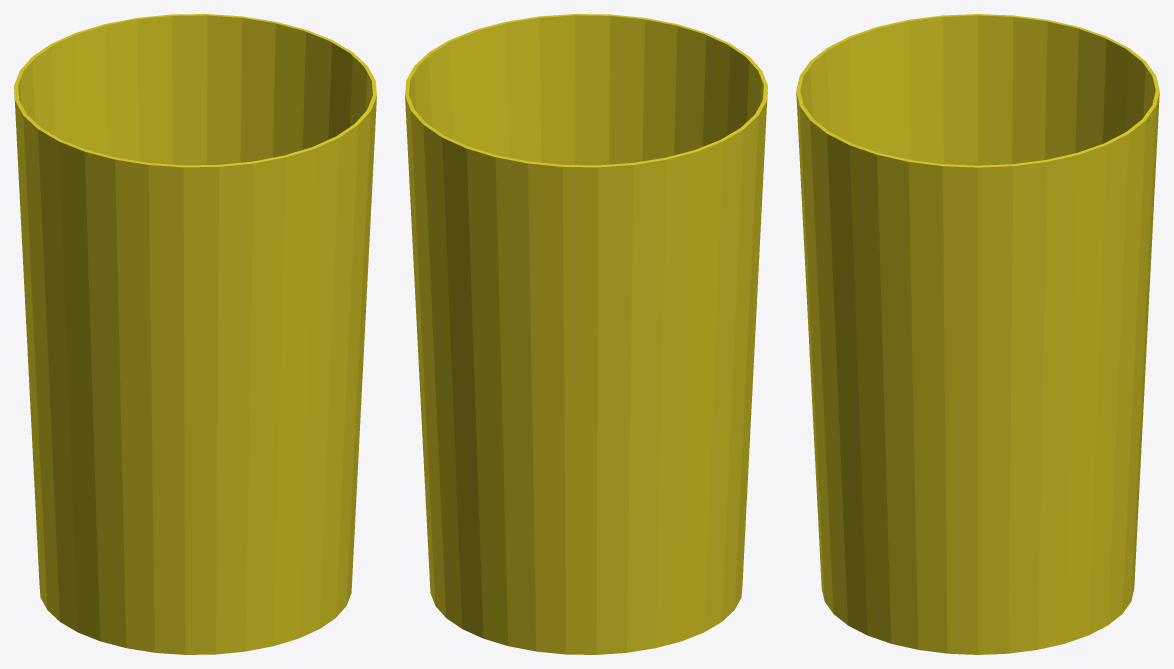
Rendered from yellow_cup.fbx.
The picture shows the model from 3 angles, left to right: view 1: azimuth 30°, elevation 25°; view 2: azimuth 150°, elevation 25°; view 3: azimuth 270°, elevation 25°; orthographic projection.
Parts seen in each view (by area): view 1: cup.001; view 2: cup.001; view 3: cup.001.
Boxes of the visible parts, x1,y1,x2,y2 form: cup.001: (14, 14, 376, 654); cup.001: (405, 14, 767, 654); cup.001: (796, 14, 1159, 654).
Size of the model in its own units: 71.15 by 108 by 71.15.
